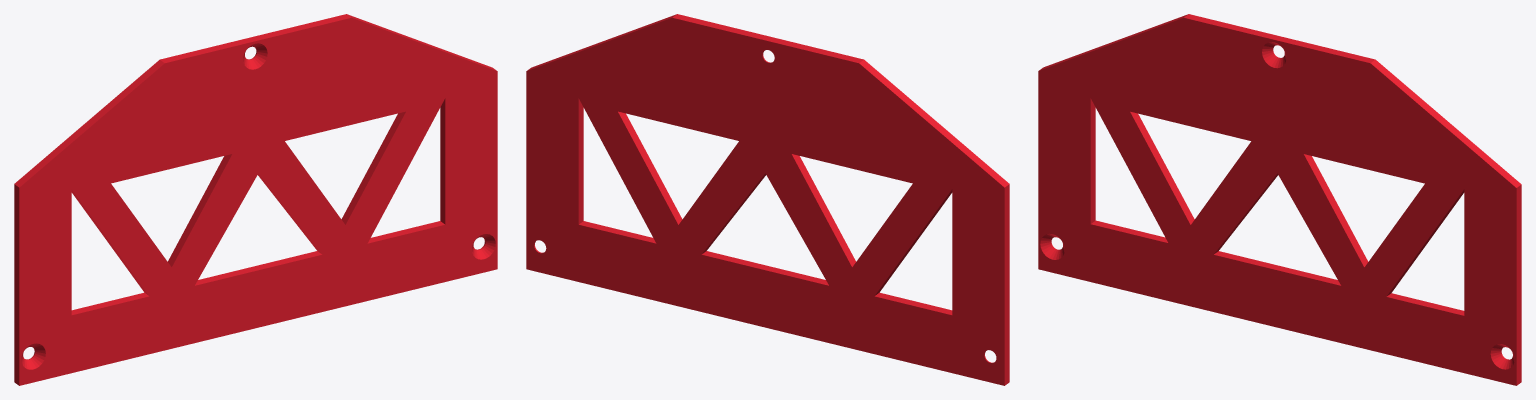
Rendered from tinker.obj.
The picture shows the model from 3 angles, left to right: view 1: azimuth 30°, elevation 25°; view 2: azimuth 150°, elevation 25°; view 3: azimuth 330°, elevation 25°; orthographic projection.
Visible parts, largest first — view 1: obj_0; view 2: obj_0; view 3: obj_0.
Part boxes in pixels (x1,y1,x2,y2): obj_0: (14, 14, 497, 385); obj_0: (526, 14, 1009, 385); obj_0: (1038, 14, 1521, 385).
Size of the model in its own units: 152 by 86.9 by 2.8.
